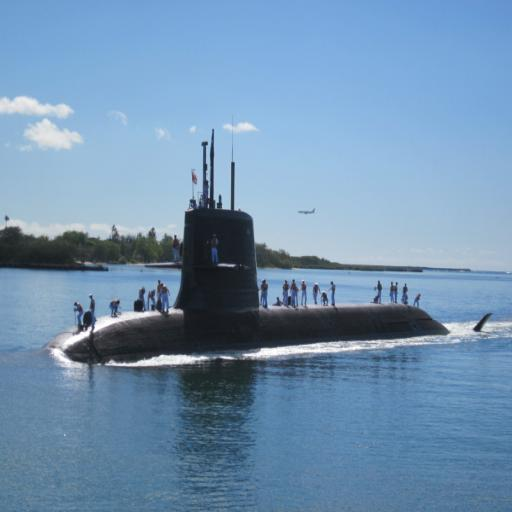submarine: (53, 128, 512, 370)
